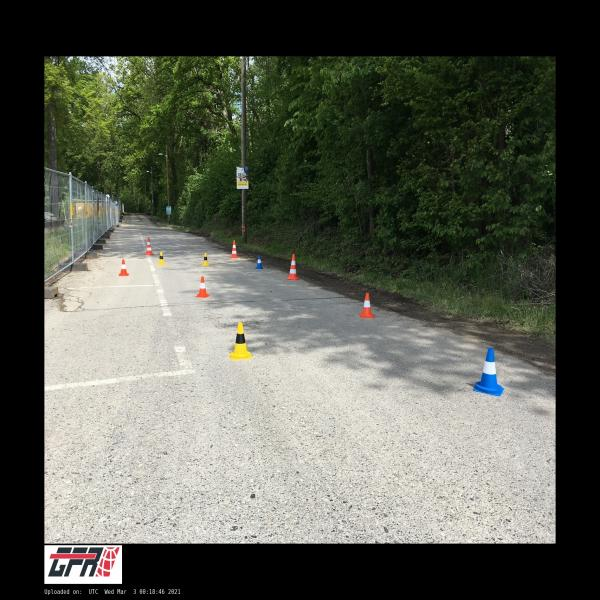blue_cone: (473, 347, 504, 397), (255, 255, 263, 269)
large_orange_cone: (287, 254, 299, 280), (145, 237, 154, 255), (230, 241, 238, 258)
orange_cone: (359, 292, 374, 318), (196, 276, 210, 298), (119, 259, 129, 276)
yellow_cone: (229, 323, 252, 360), (157, 252, 165, 264), (202, 253, 209, 266)
